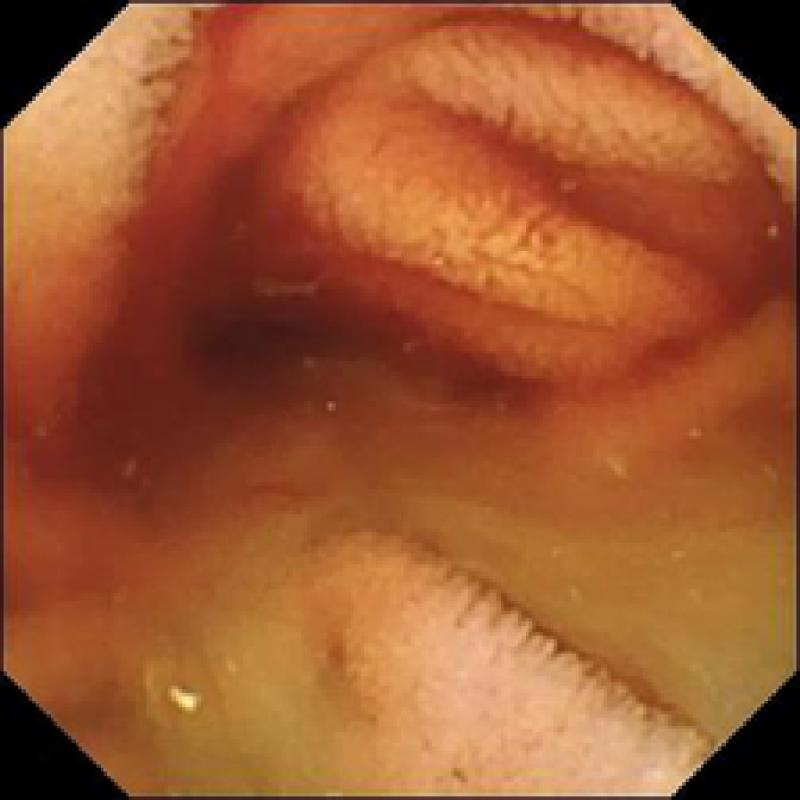bleeding: (54, 7, 785, 464)
